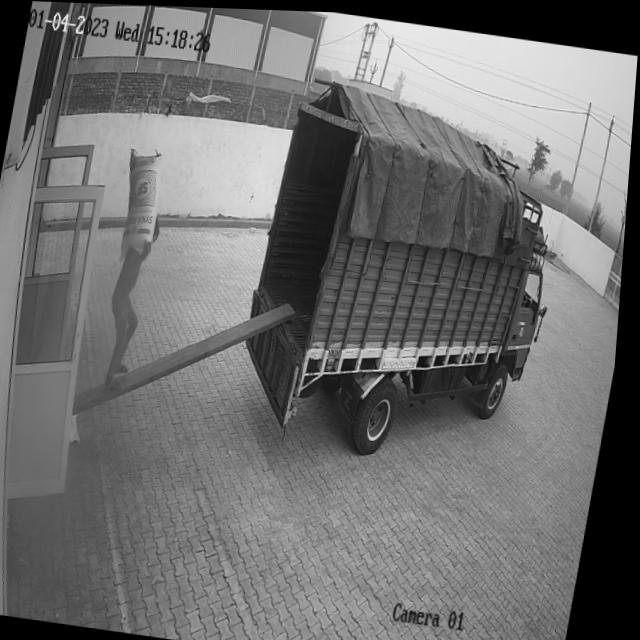sack: (114, 143, 170, 258)
